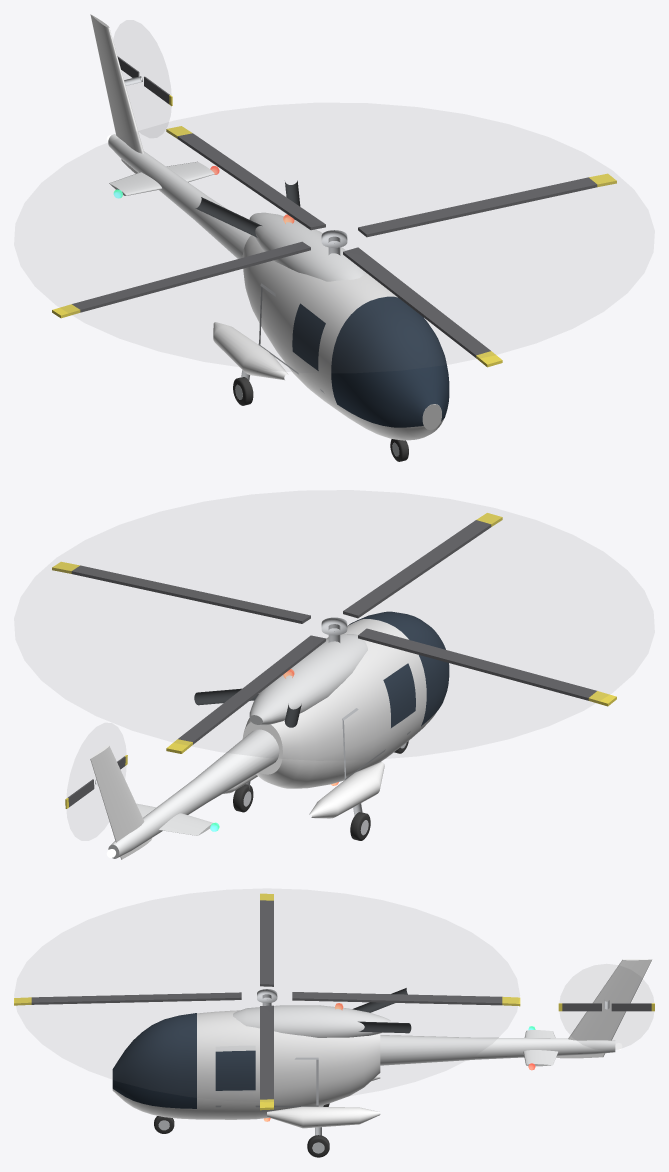
3 views of the same model, one above another, from view 1: azimuth 30°, elevation 25°; view 2: azimuth 150°, elevation 25°; view 3: azimuth 270°, elevation 25° (orthographic). The views are drawn at different scales.
Visible parts, largest first — view 1: airframe, rotor; view 2: airframe, rotor; view 3: airframe, rotor, tail.
Boxes of the visible parts, left/top/right/bottom form: airframe: left=90, top=14, right=449, bottom=461; rotor: left=52, top=126, right=616, bottom=367; airframe: left=90, top=611, right=449, bottom=859; rotor: left=52, top=513, right=616, bottom=753; airframe: left=112, top=959, right=651, bottom=1157; rotor: left=14, top=893, right=520, bottom=1110; tail: left=558, top=1003, right=654, bottom=1011.
Bounding box in the file's own units: 11 × 4.29 × 13.93.
